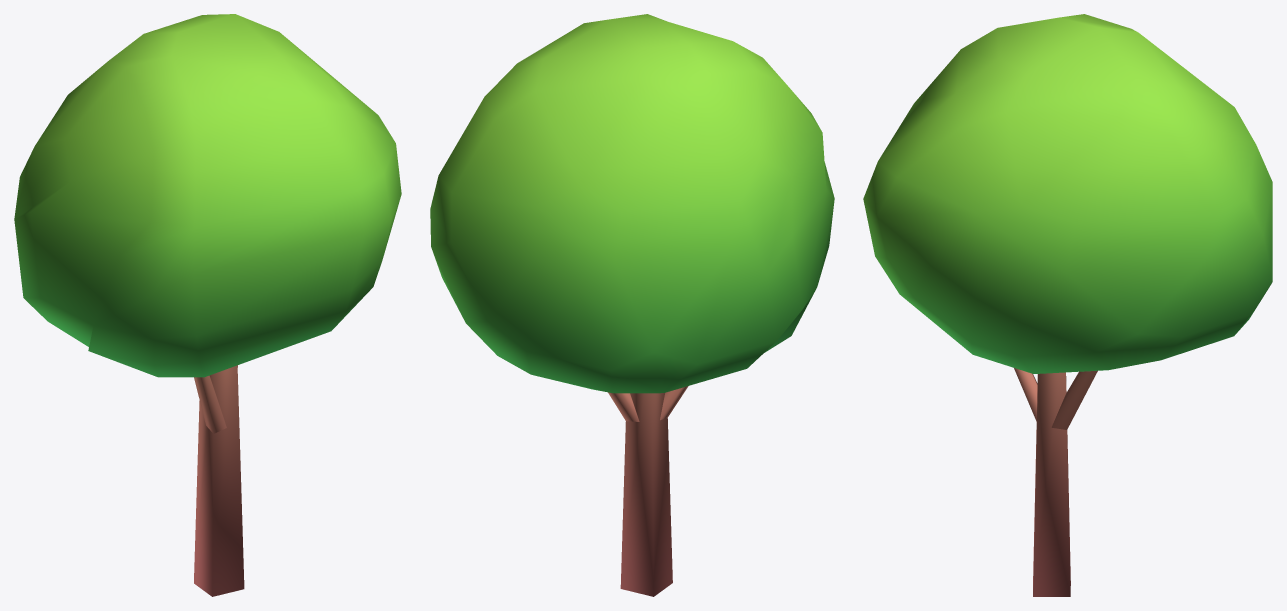
File: Tree_1.fbx
3 views of the same model, side by side, from view 1: azimuth 30°, elevation 25°; view 2: azimuth 150°, elevation 25°; view 3: azimuth 270°, elevation 25° (orthographic). The views are drawn at different scales.
Visible parts, largest first — view 1: Tree_1; view 2: Tree_1; view 3: Tree_1.
Part boxes in pixels (x1,y1,x2,y2): Tree_1: [14, 14, 401, 596]; Tree_1: [430, 14, 834, 596]; Tree_1: [863, 14, 1272, 596].
Size of the model in its own units: 197 by 310 by 208.
